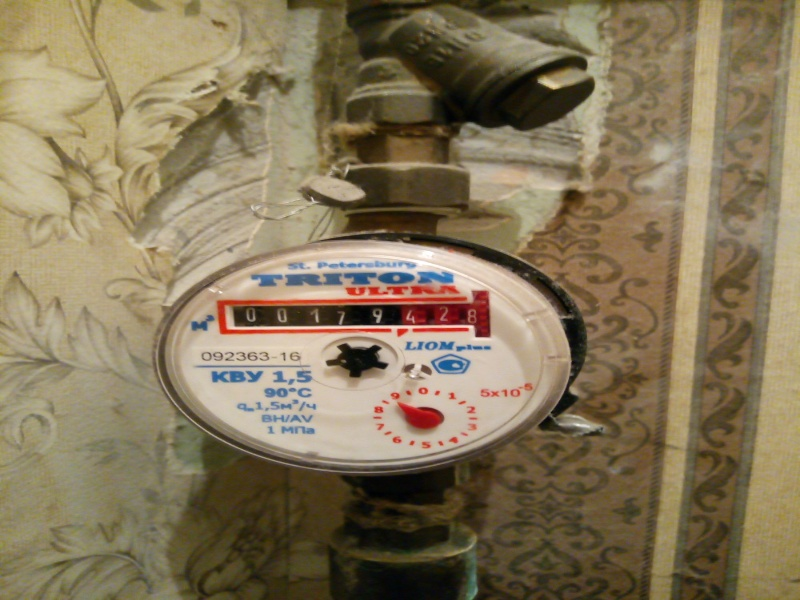dial: (217, 297, 481, 326)
